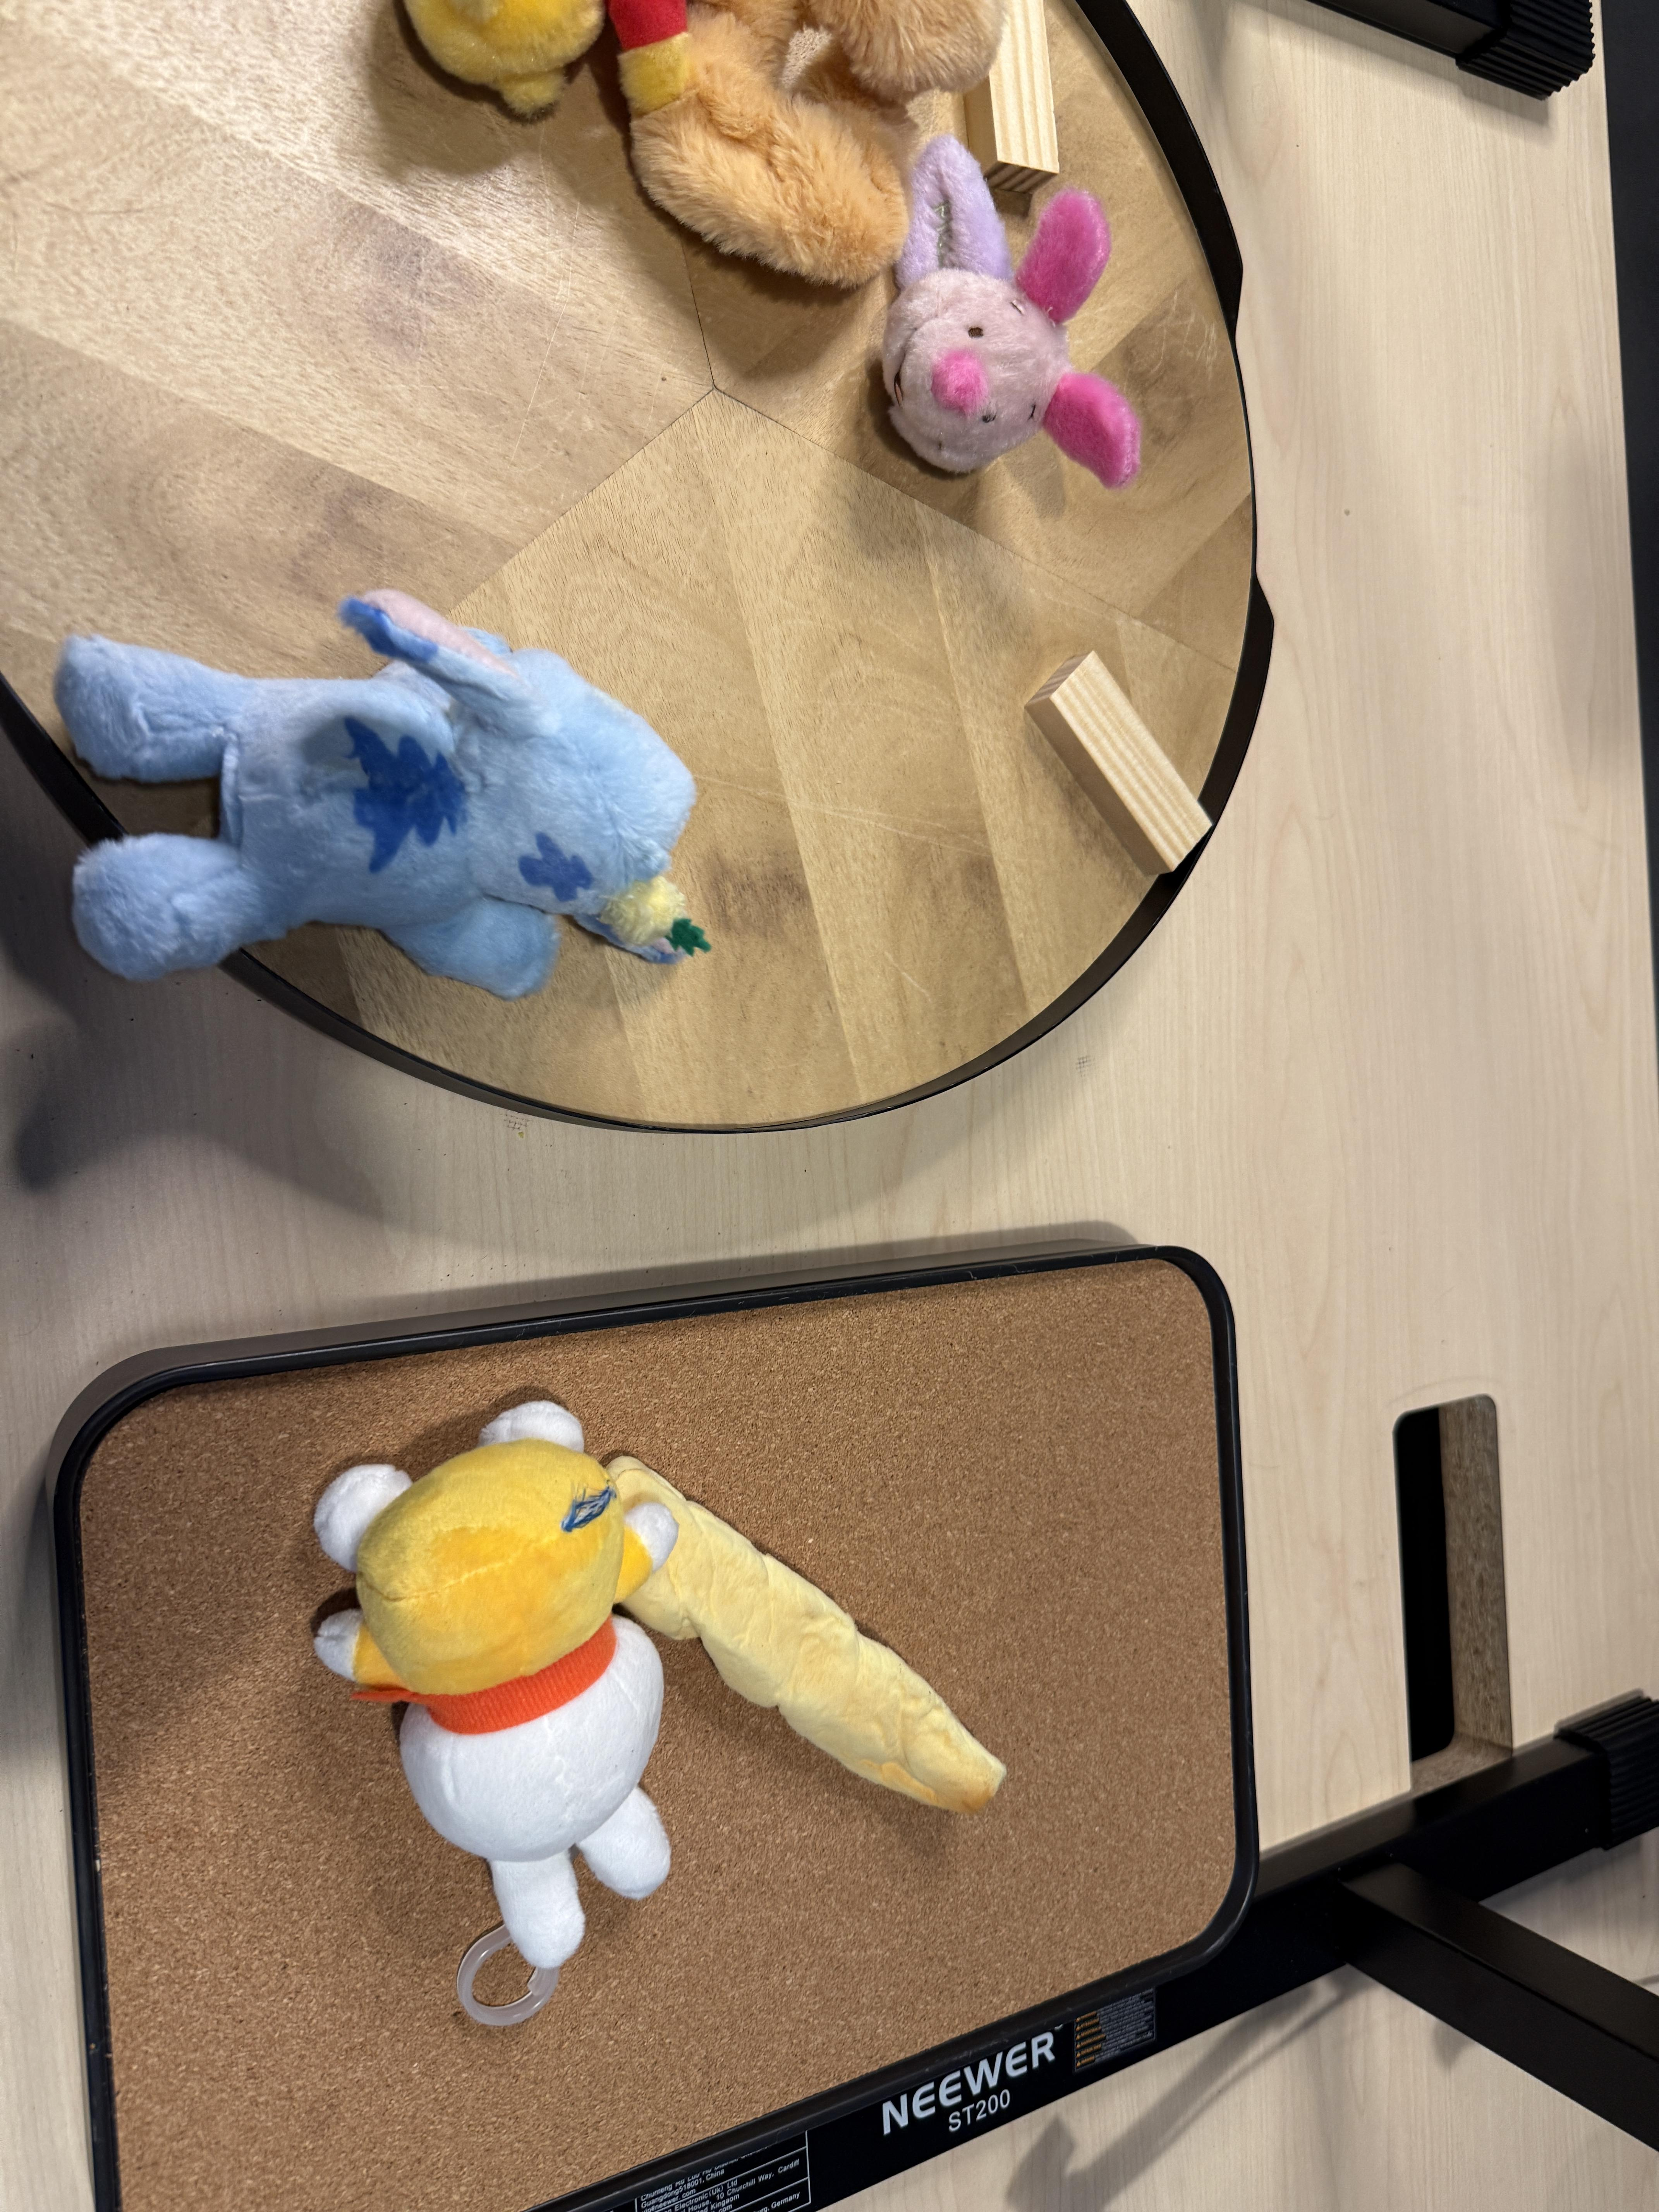block: (1026, 651, 1218, 878), (983, 0, 1068, 171)
bread: (592, 1444, 1018, 1817)
doll: (47, 585, 708, 1001), (317, 1399, 683, 1968), (376, 7, 1012, 265), (871, 143, 1141, 472)
